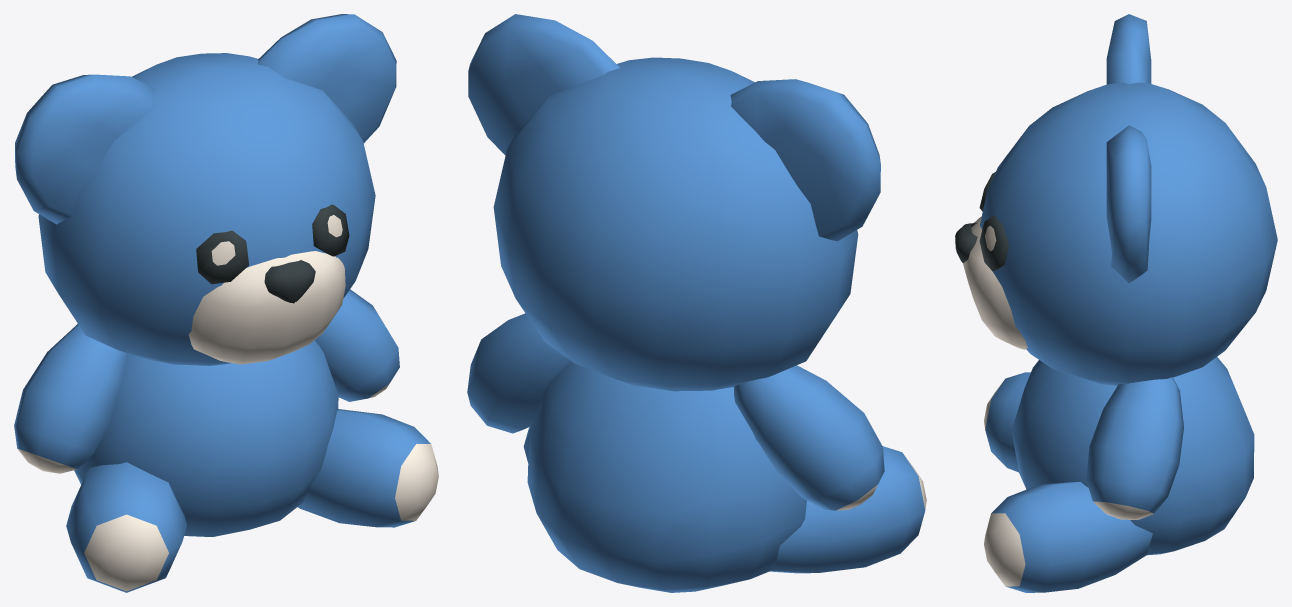
File: TeddyBear_Blue.fbx
The picture shows the model from 3 angles, left to right: view 1: azimuth 30°, elevation 25°; view 2: azimuth 150°, elevation 25°; view 3: azimuth 270°, elevation 25°; orthographic projection. The views are drawn at different scales.
Parts seen in each view (by area): view 1: TeddyBear_Blue; view 2: TeddyBear_Blue; view 3: TeddyBear_Blue.
Part boxes in pixels (<box>): TeddyBear_Blue: <box>14,14,438,592</box>; TeddyBear_Blue: <box>467,14,926,592</box>; TeddyBear_Blue: <box>955,14,1277,592</box>.
Bounding box in the file's own units: 4.03 × 4.85 × 3.12.
